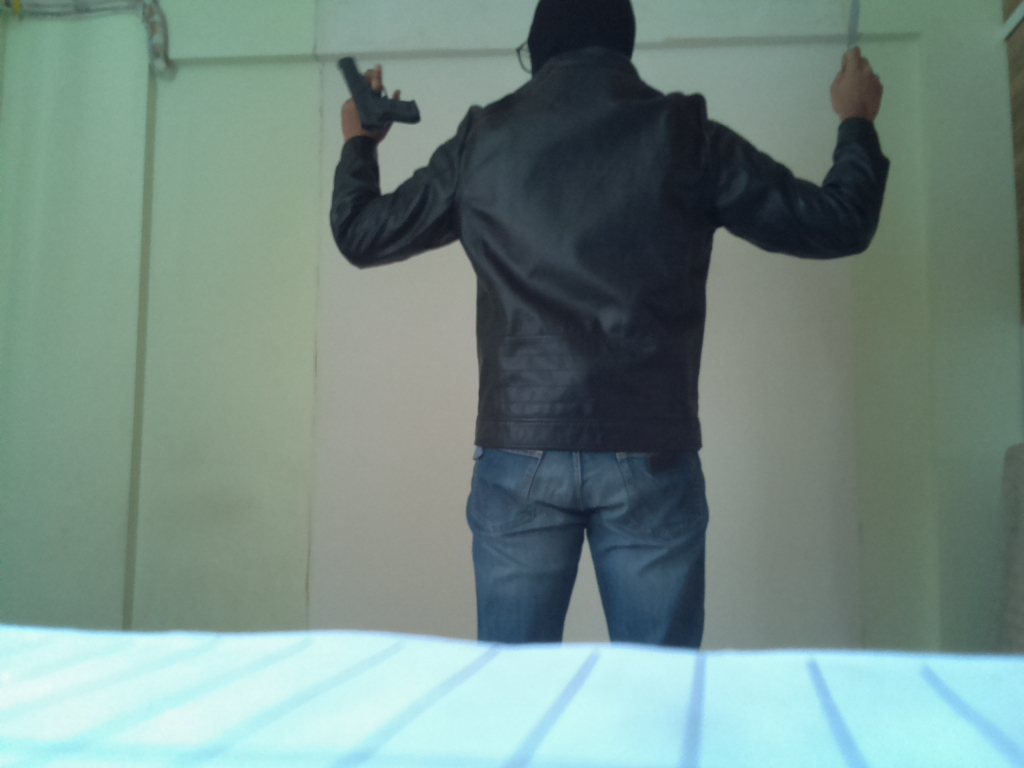gun: (332, 56, 428, 134)
